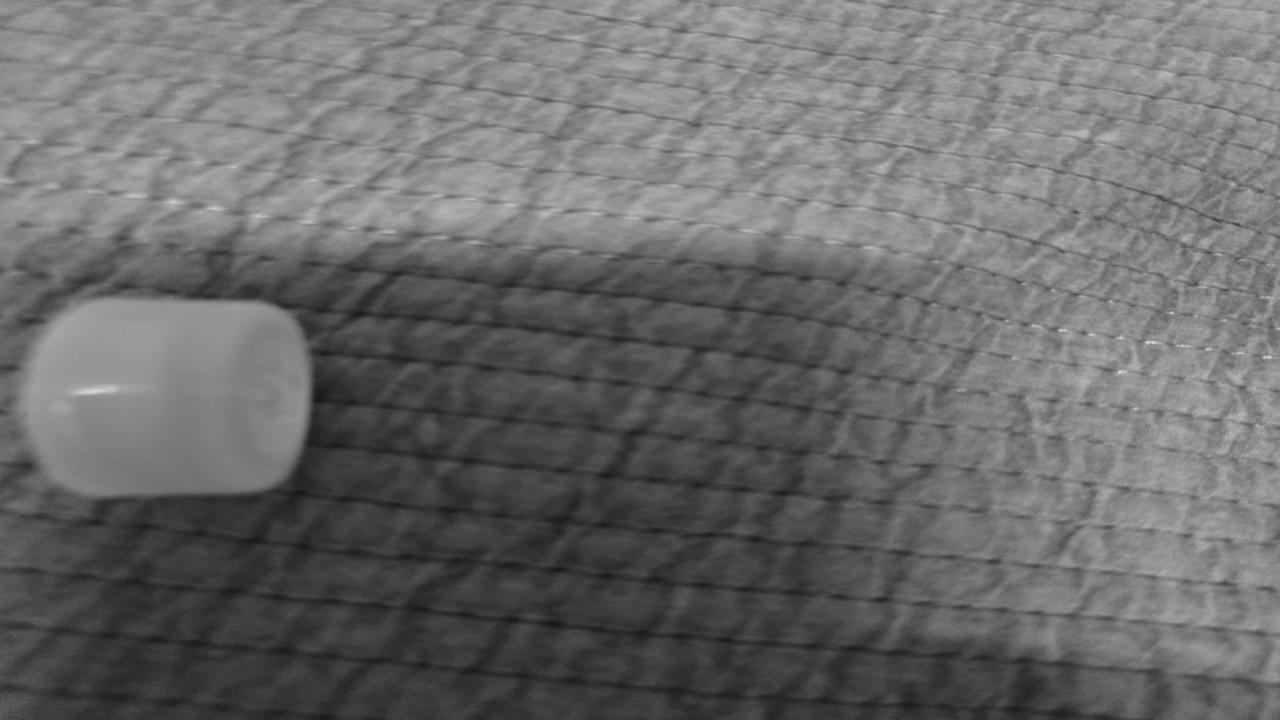bottle_cap: (26, 301, 305, 492)
